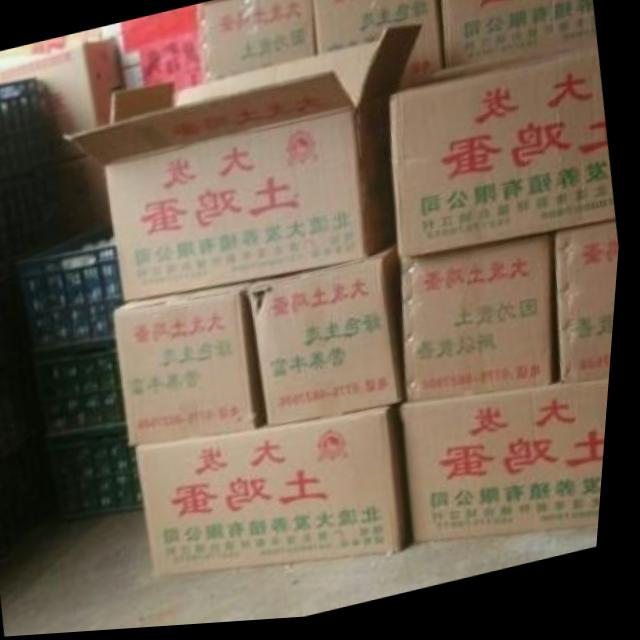box: (68, 28, 424, 306), (394, 48, 619, 264), (142, 411, 419, 579), (406, 389, 615, 547), (253, 247, 413, 427), (406, 240, 561, 408), (119, 289, 277, 447), (310, 0, 442, 102), (439, 0, 598, 76), (557, 230, 623, 392), (200, 0, 320, 83)
